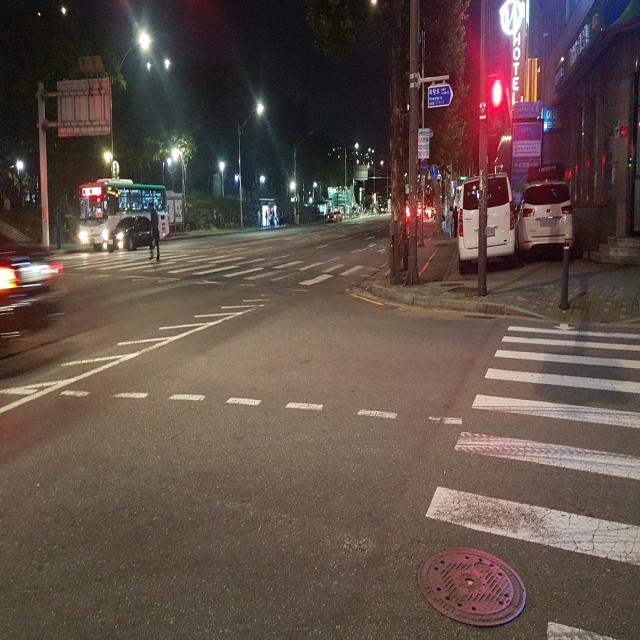빨간불: (484, 79, 508, 129)
횡단보도: (425, 325, 640, 639), (44, 240, 367, 280)
